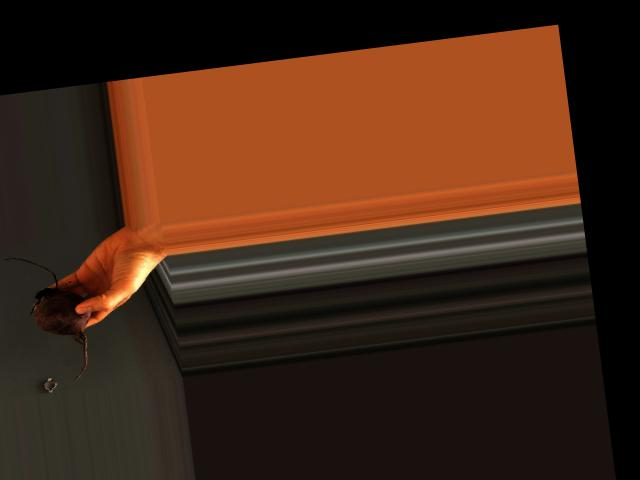beet: (3, 248, 99, 386)
